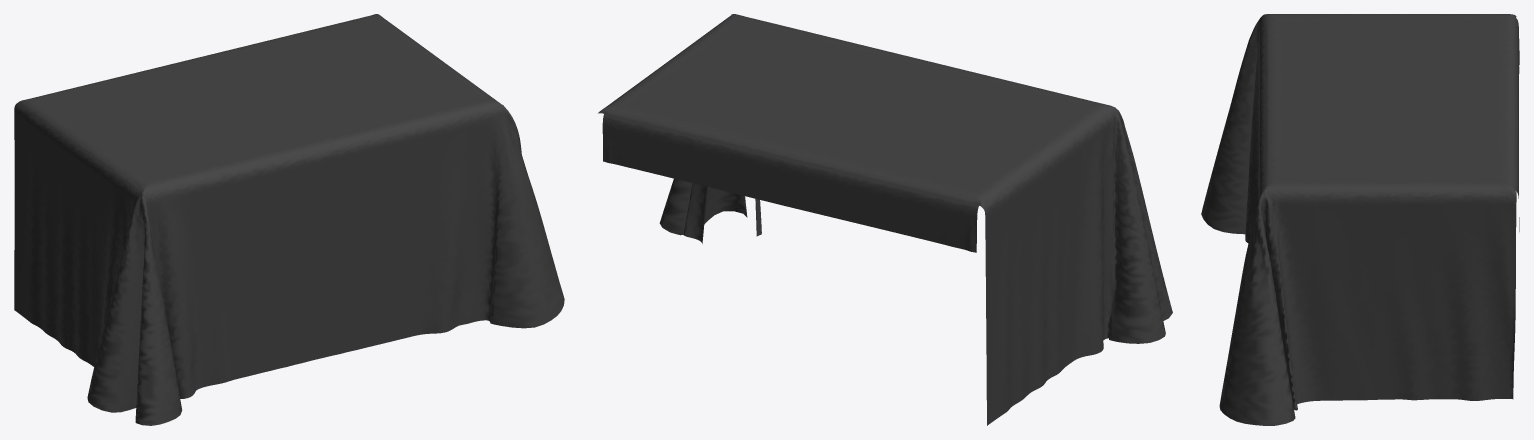
The model's file is throw-4ft-3.glb.
3 views of the same model, side by side, from view 1: azimuth 30°, elevation 25°; view 2: azimuth 150°, elevation 25°; view 3: azimuth 270°, elevation 25° (orthographic). The views are drawn at different scales.
Visible parts, largest first — view 1: geometry_0; view 2: geometry_0; view 3: geometry_0.
Boxes of the visible parts, x1=… form: geometry_0: x1=14, y1=14, x2=564, y2=425; geometry_0: x1=598, y1=14, x2=1172, y2=425; geometry_0: x1=1201, y1=14, x2=1519, y2=425.
Size of the model in its own units: 1.63 by 0.7122 by 0.9532.
1 material, 1 textured.
